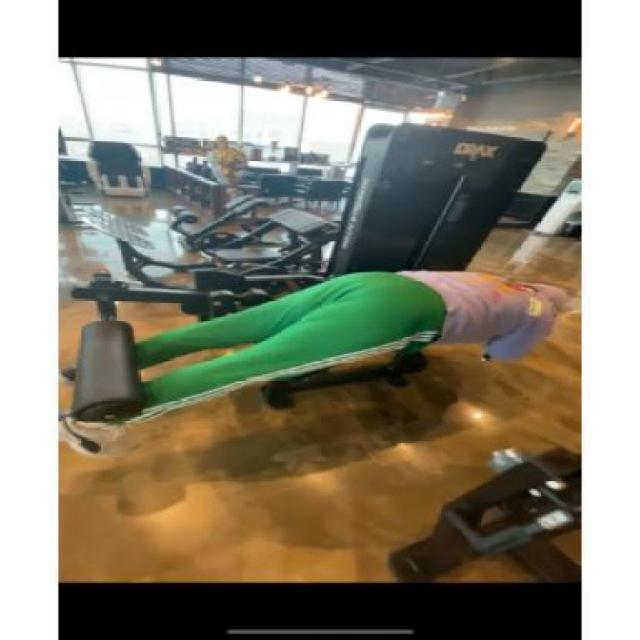reg curl machine: (54, 110, 581, 468)
